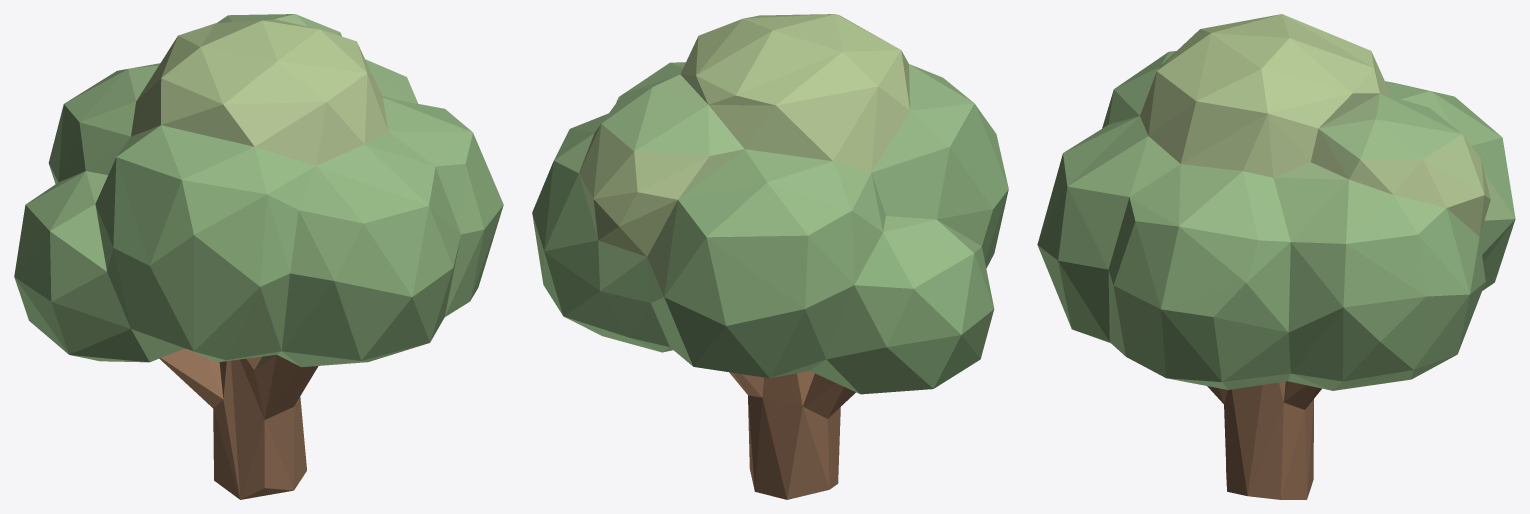
The model's file is tree_leafy.glb.
The picture shows the model from 3 angles, left to right: view 1: azimuth 30°, elevation 25°; view 2: azimuth 150°, elevation 25°; view 3: azimuth 270°, elevation 25°; orthographic projection.
Visible parts, largest first — view 1: scenery; view 2: scenery; view 3: scenery.
Part boxes in pixels (x1,y1,x2,y2): scenery: (14,14,503,499); scenery: (532,14,1008,499); scenery: (1037,14,1515,499).
Size of the model in its own units: 0.9394 by 1 by 0.9449.
